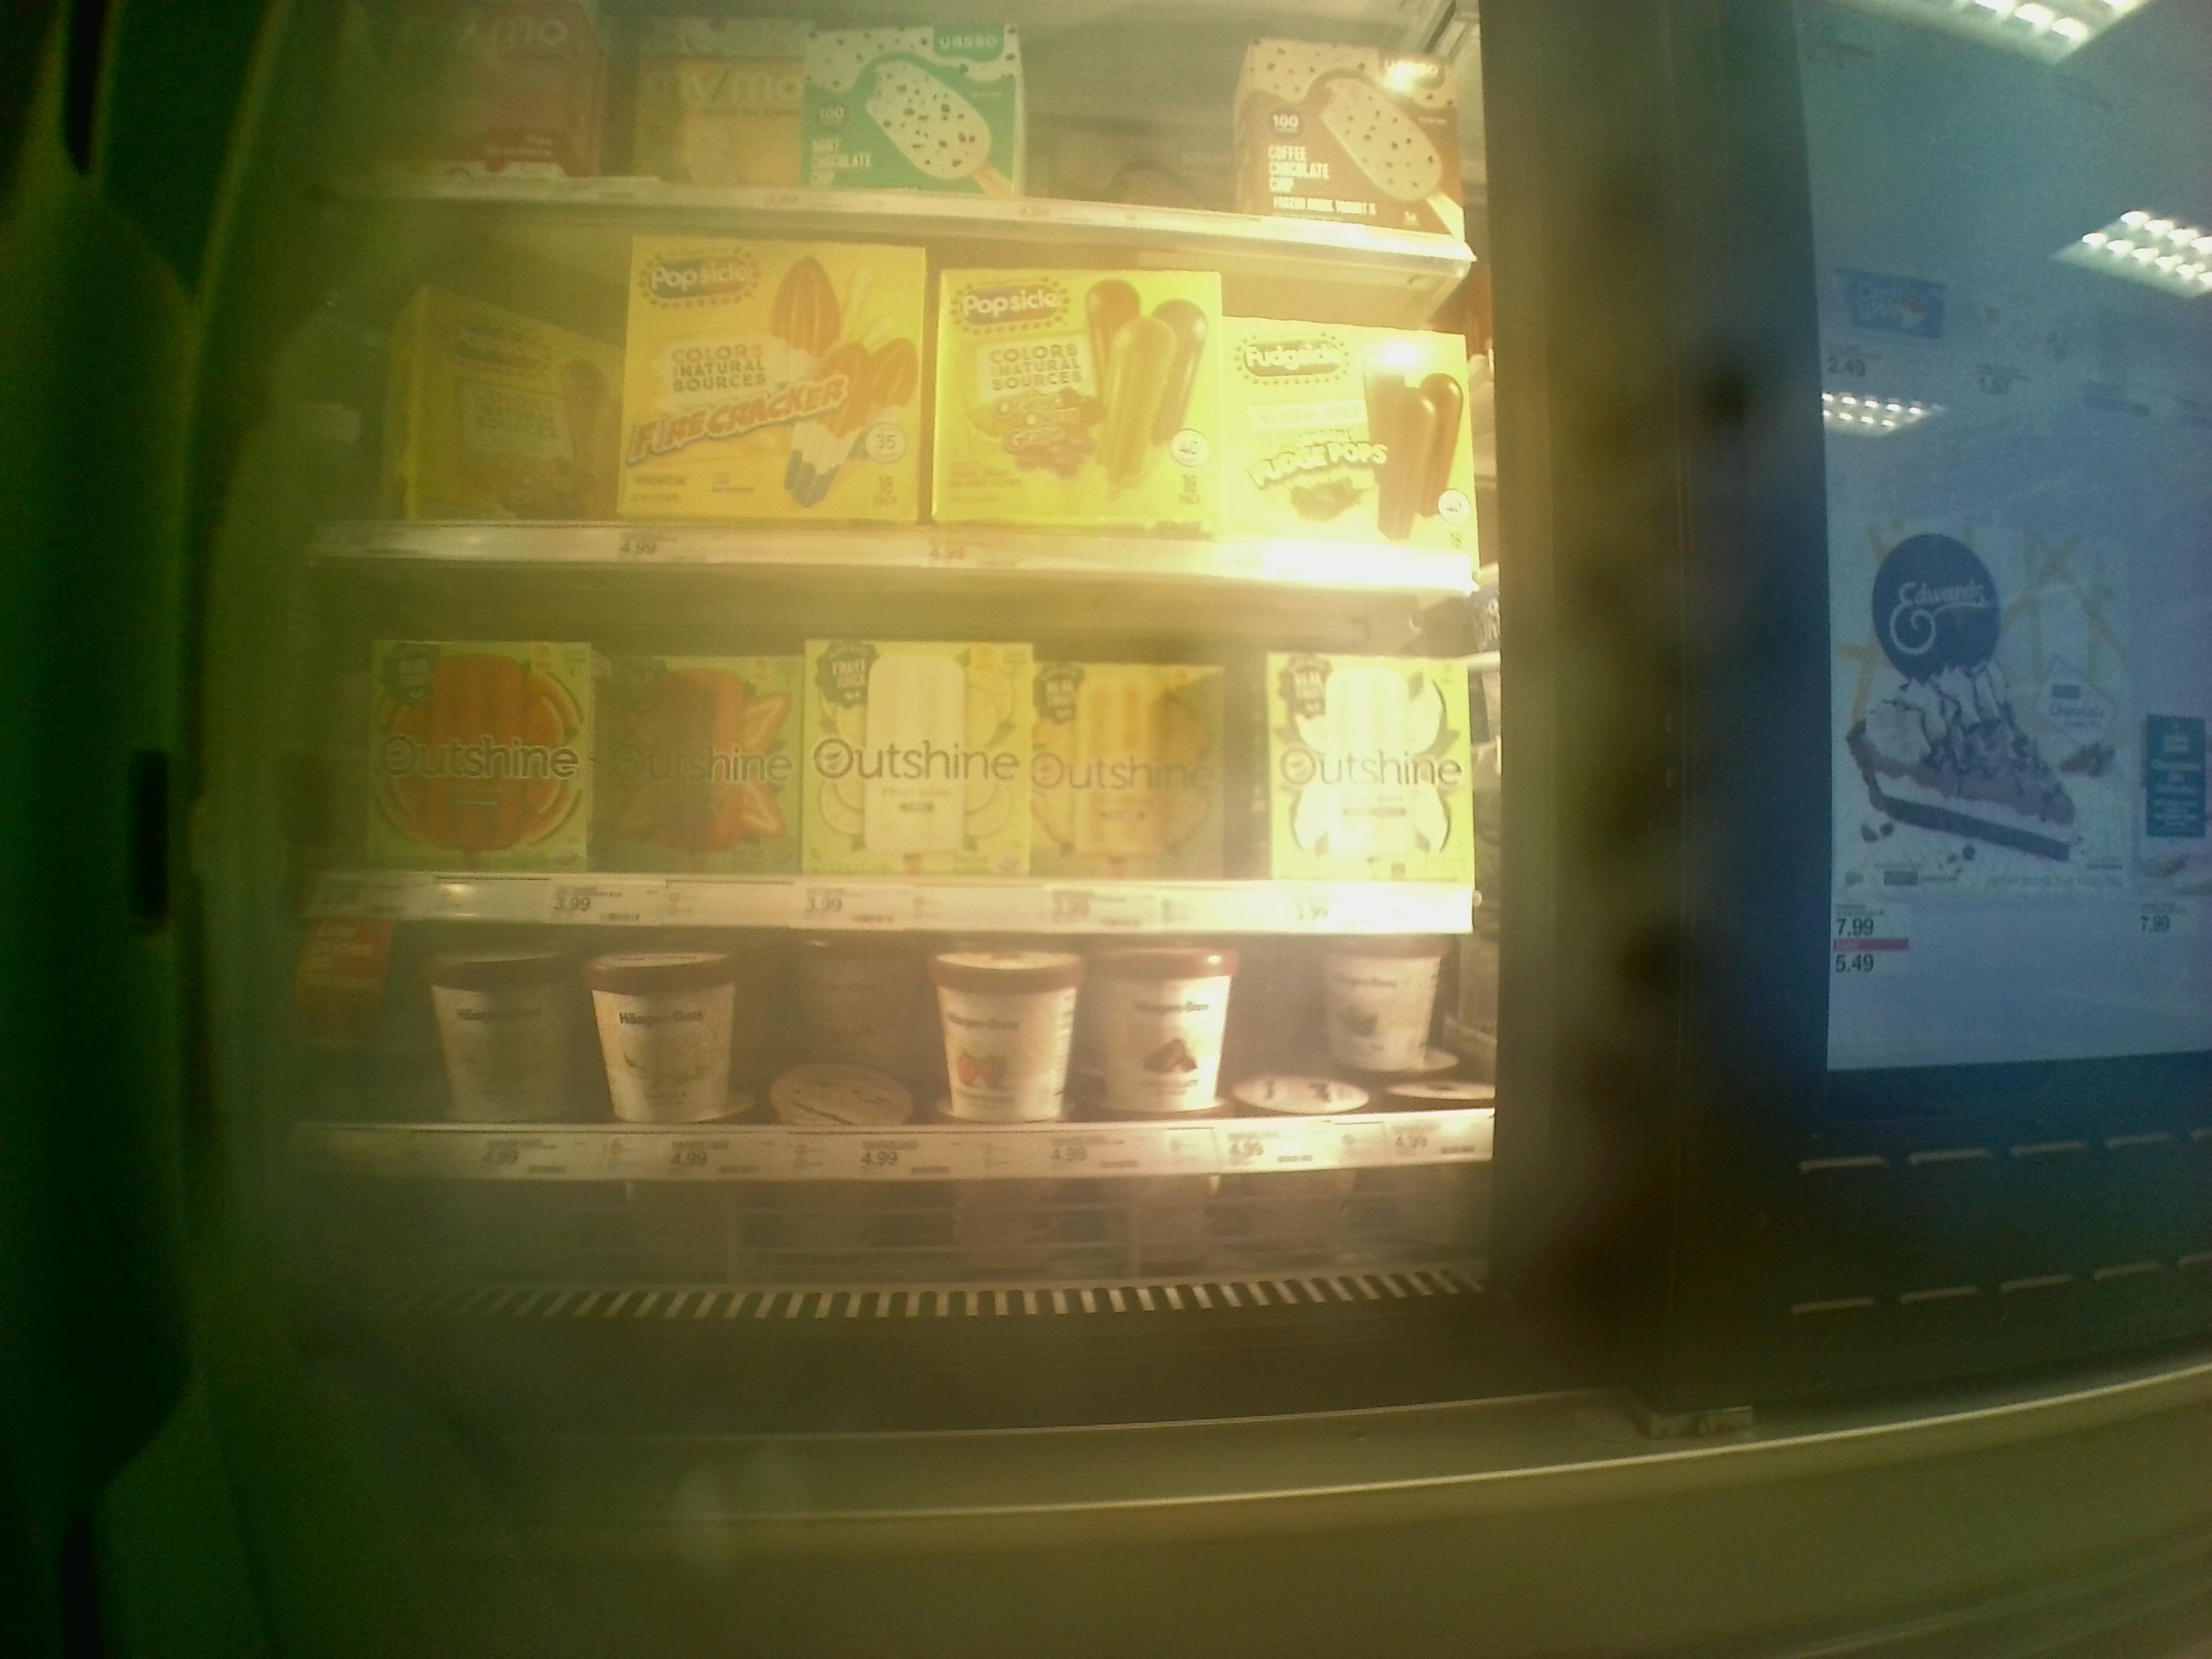shelf: (314, 556, 1486, 917), (317, 917, 1489, 1272), (310, 218, 1477, 563)
